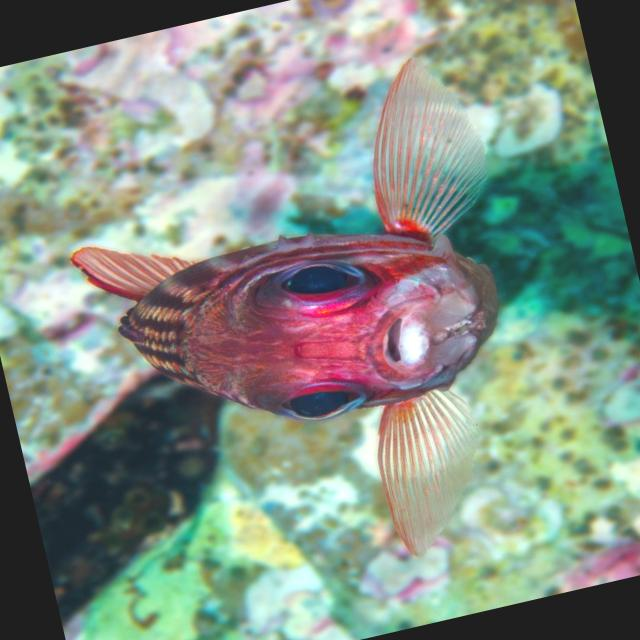Asker Baligi: (38, 40, 574, 618)
